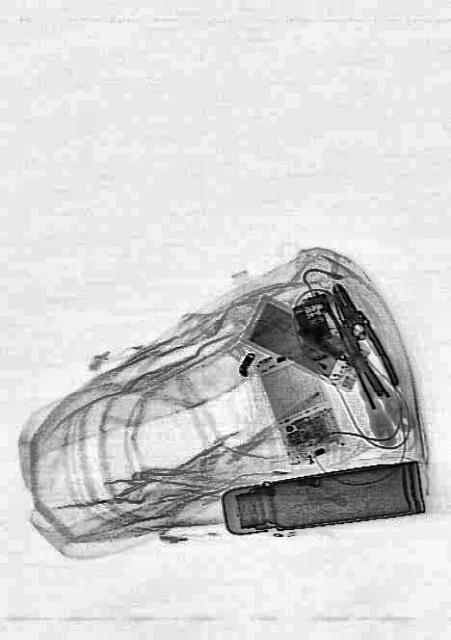Pliers: (322, 274, 402, 402)
